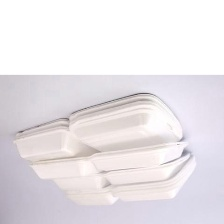foam_box: (9, 88, 186, 164), (27, 138, 200, 212)
